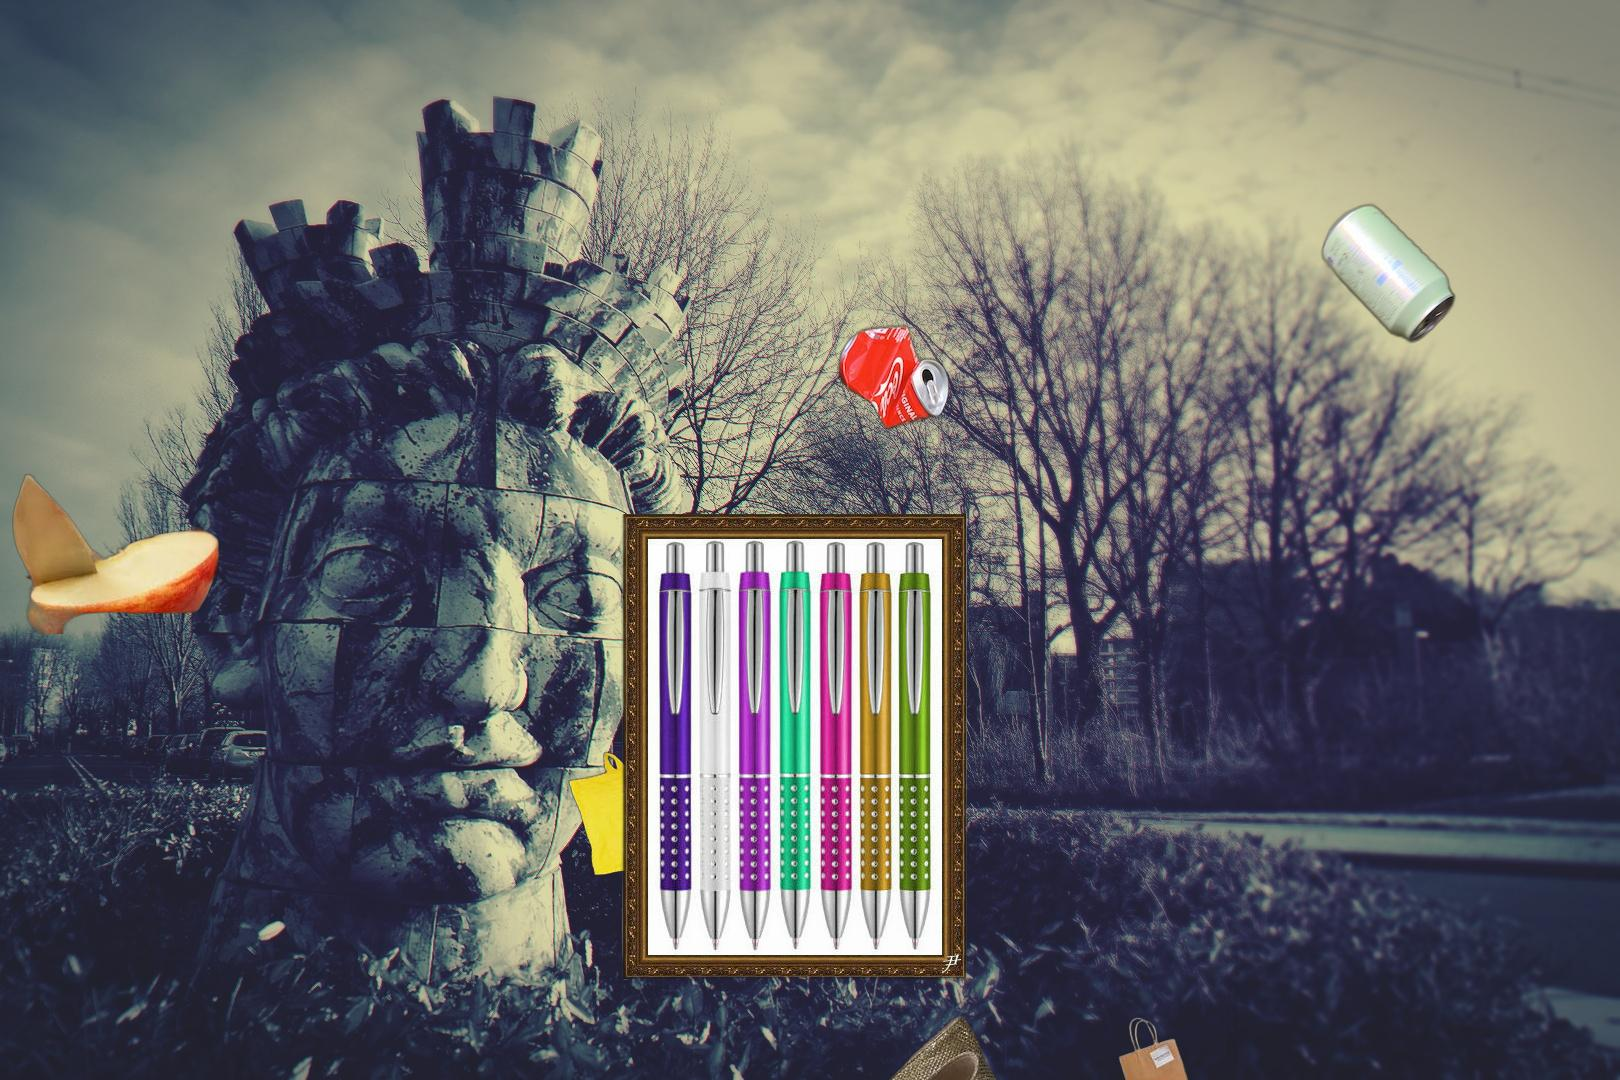biological: (10, 472, 262, 634)
metal-cans: (1103, 199, 1615, 729), (526, 319, 1025, 855)
paper-bag: (1110, 871, 1261, 1080)
penholder: (562, 513, 972, 980)
plastic-bag: (509, 628, 765, 890)
shoes: (694, 946, 1063, 1080)
